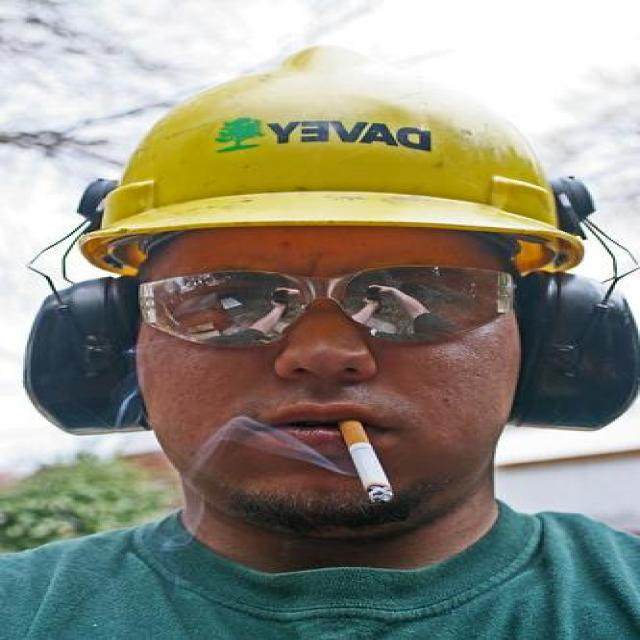Safety-Helmet: (73, 10, 598, 271)
